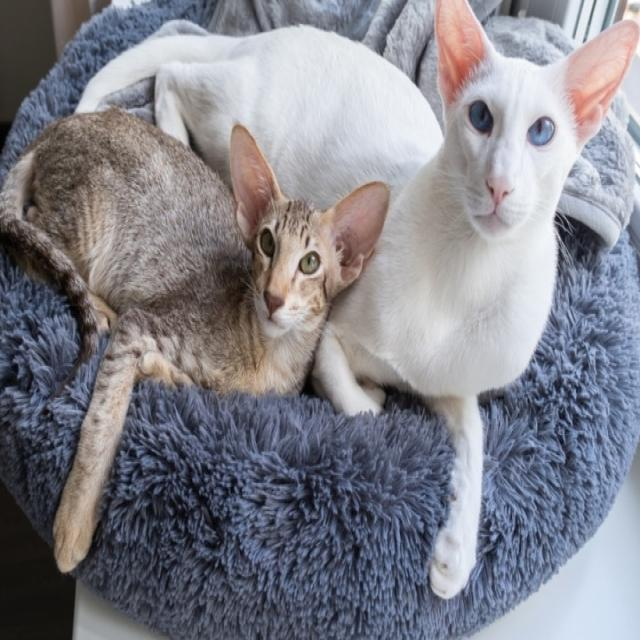Oriental: (321, 0, 640, 604), (0, 105, 392, 586)
